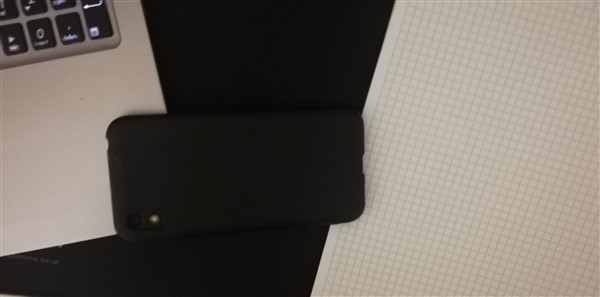telefon: (102, 111, 376, 244)
